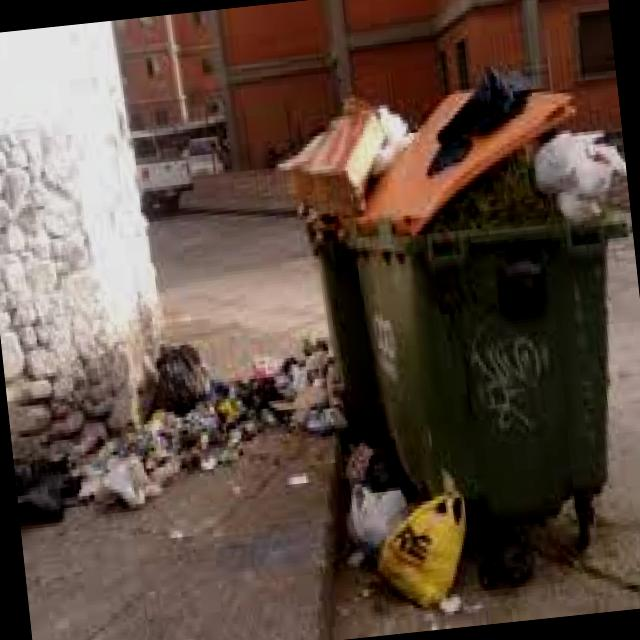garbage: (249, 57, 640, 640)
